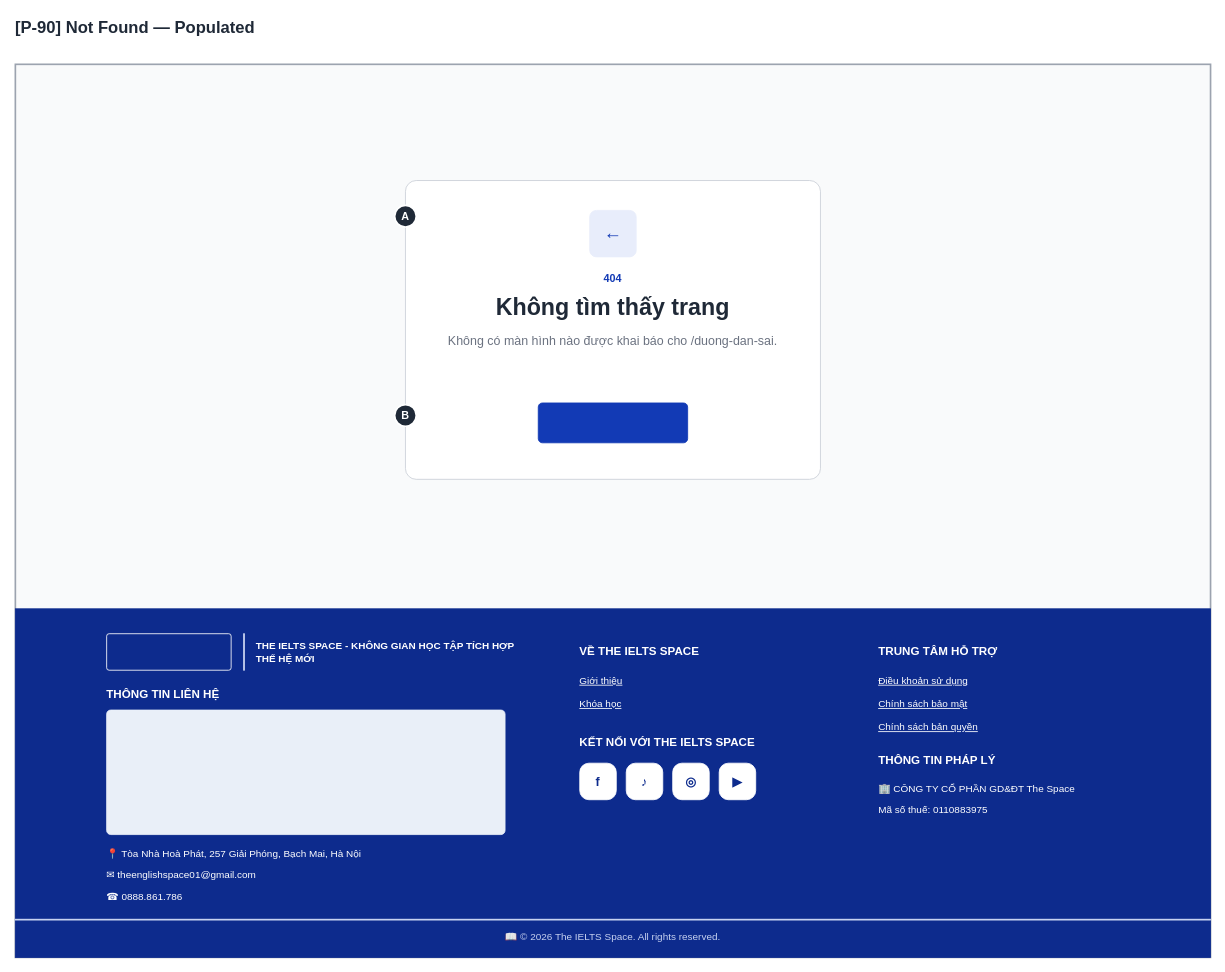
Image size: 1225x972. Some labels were removed from this diagram. Each missing label, with the centre of its shape:
IELTS Space logo: point (168, 651)
Về Overview: point (612, 422)
📍 The IELTS Space Mở trong Maps ↗: point (305, 772)
